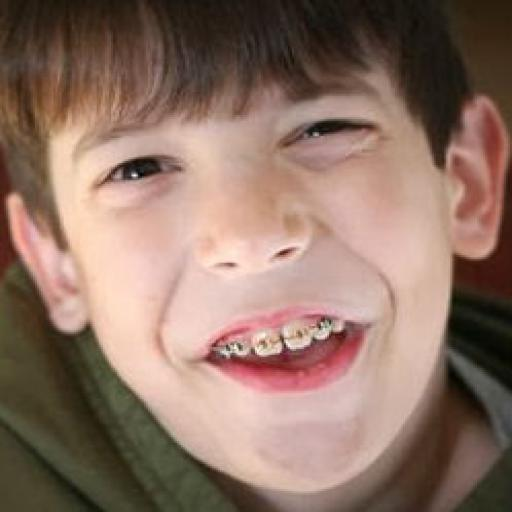Autism: (6, 4, 512, 502)
